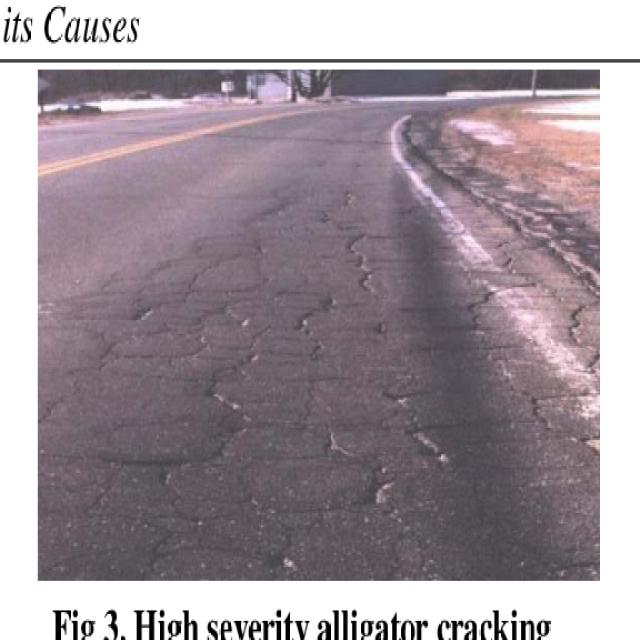Drain Hole: (205, 158, 460, 365)
